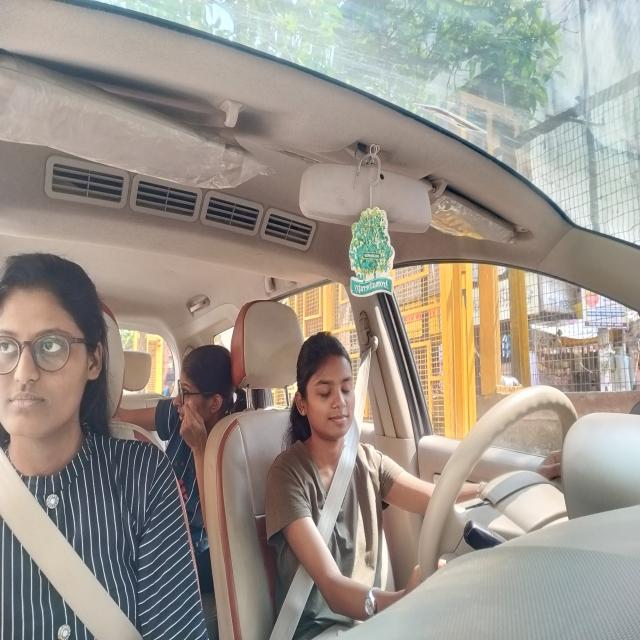drowsy: (286, 321, 368, 469)
person: (0, 236, 121, 477), (164, 338, 233, 445)
